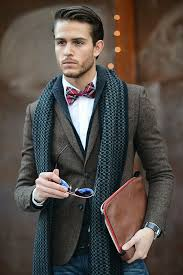bow: (62, 82, 99, 105)
